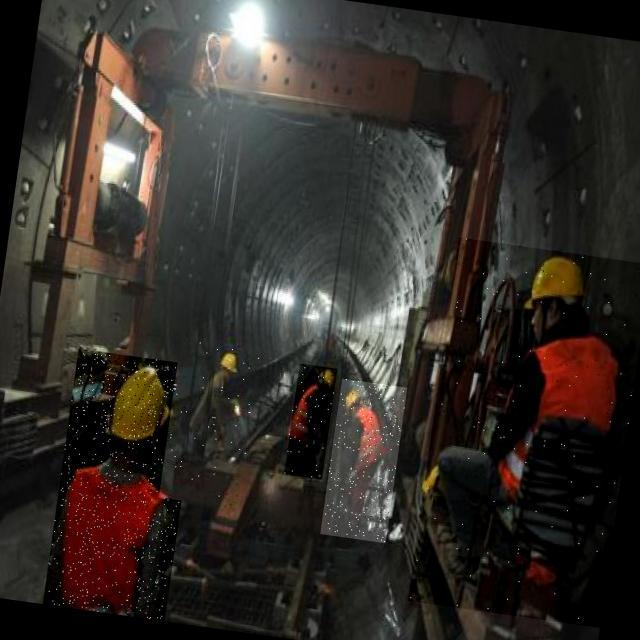Helmet: (110, 362, 181, 451), (526, 255, 592, 325), (219, 350, 241, 377), (345, 390, 362, 412), (316, 368, 335, 387)
Person: (427, 243, 638, 611), (33, 349, 189, 635), (175, 340, 273, 486), (336, 379, 412, 507), (284, 348, 339, 492)
Safety Vest: (483, 327, 629, 601), (56, 462, 171, 620), (343, 406, 392, 480), (286, 380, 326, 451)
